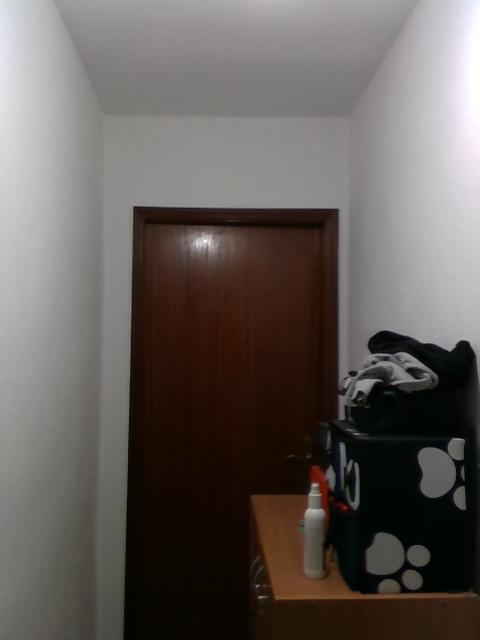door: (143, 225, 323, 640)
